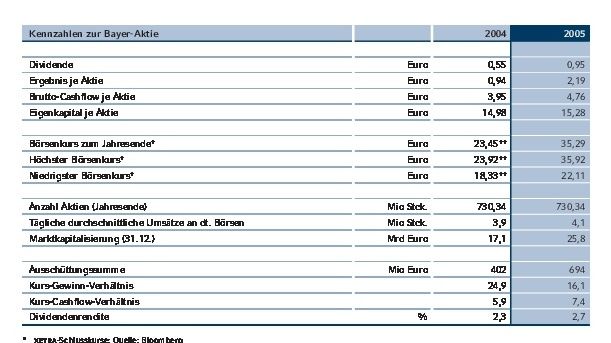table: (0, 0, 611, 343)
